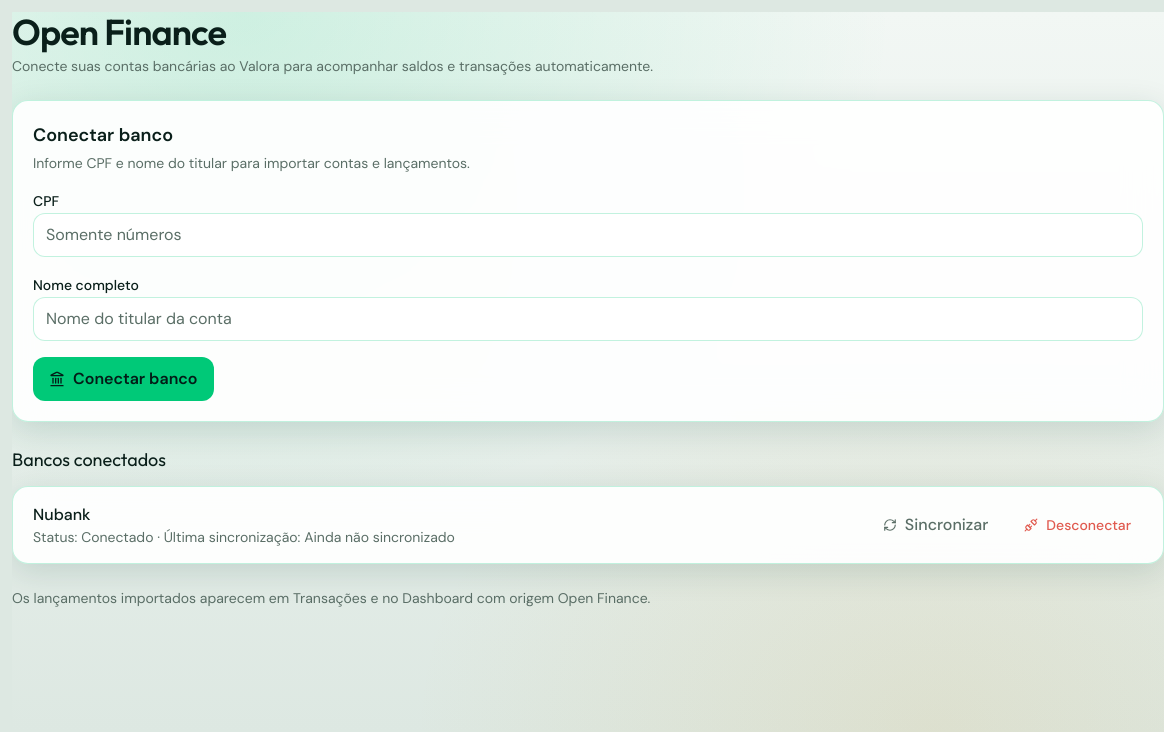
Test case: OpenFinancePage › shows friendly sync error message
Click the button "Sincronizar": (936, 525) x1=867 y1=503 x2=1004 y2=547
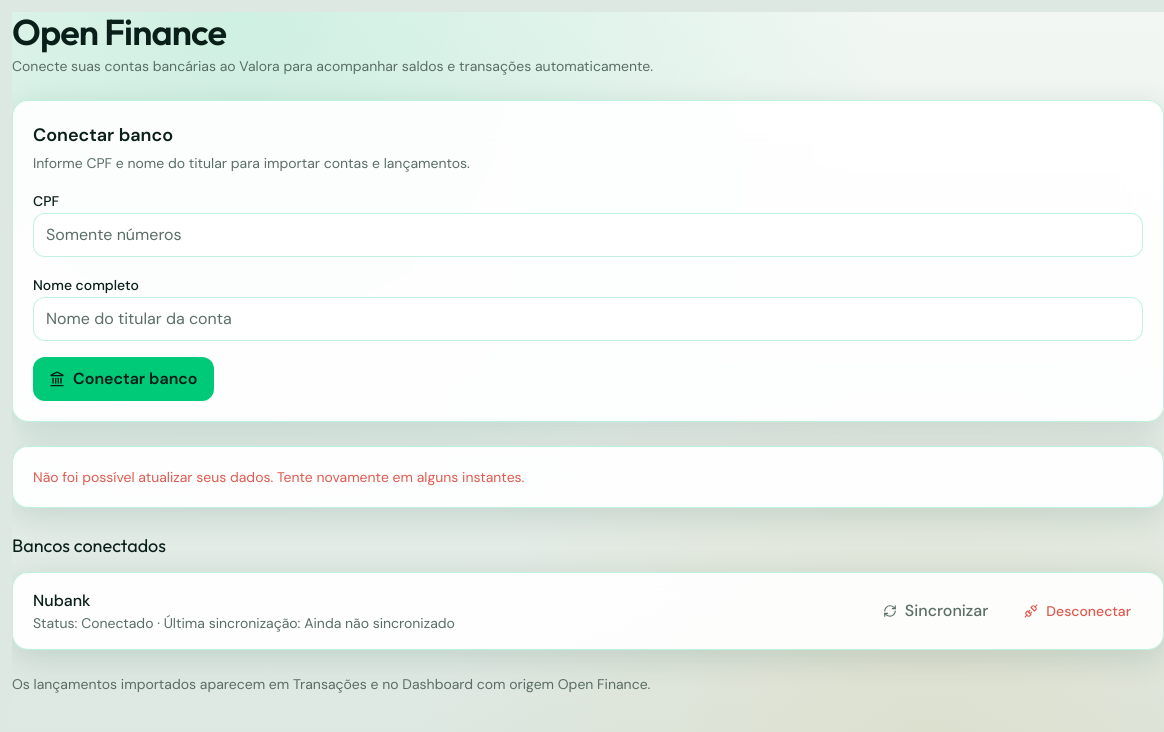
Now the text "Não foi possível atualizar seus dados" is shown, box x1=33 y1=468 x2=524 y2=486
